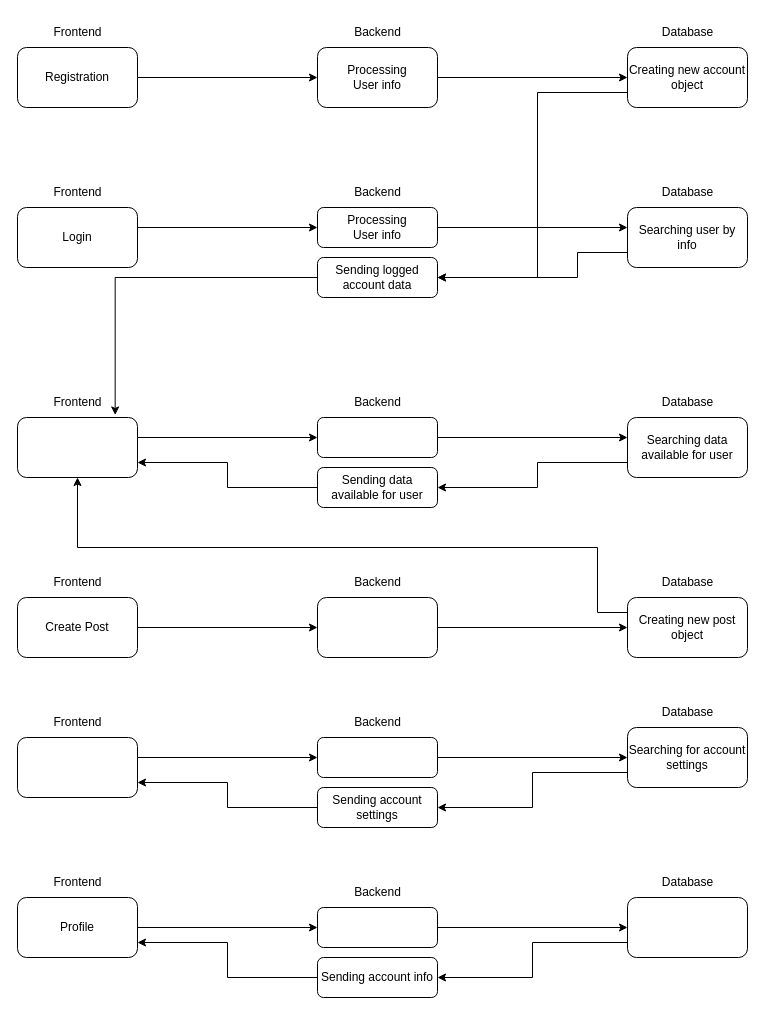
This 765x1015 diagram has some shape labels left out. Each missing label, with the box of its shape:
Feed page: (16, 416, 138, 478)
Processing post info: (316, 596, 438, 658)
Request account info: (316, 906, 438, 948)
Request account settings: (316, 736, 438, 778)
Request data available for user: (316, 416, 438, 458)
Searching account info: (626, 896, 748, 958)
Settings: (16, 736, 138, 798)
